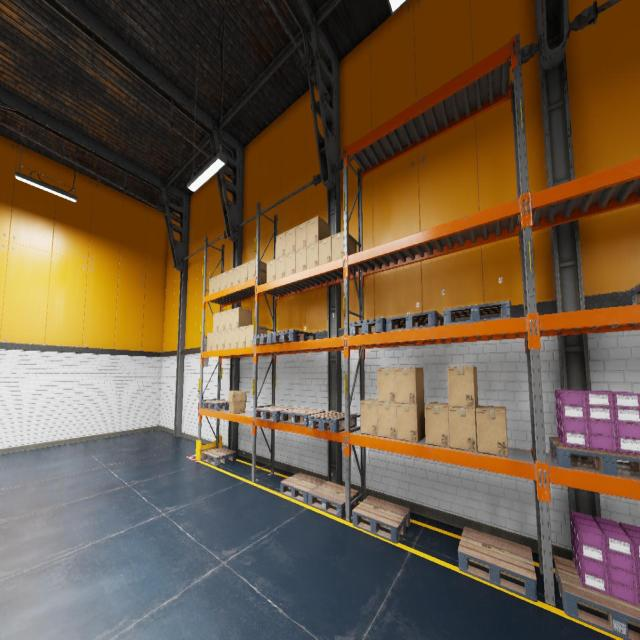box: (476, 405, 508, 457), (448, 406, 478, 451), (447, 366, 478, 408), (424, 402, 450, 448), (396, 402, 425, 442), (395, 368, 424, 404), (332, 231, 356, 267), (378, 402, 397, 439), (307, 216, 330, 245), (377, 368, 396, 402), (361, 399, 378, 435), (246, 324, 267, 346), (227, 391, 247, 414), (231, 307, 252, 328), (248, 258, 266, 282), (318, 236, 332, 265), (307, 241, 318, 269), (296, 221, 306, 250), (286, 227, 296, 254), (296, 246, 306, 272), (285, 251, 295, 276), (275, 255, 285, 279), (276, 232, 285, 258), (266, 259, 276, 282), (238, 326, 246, 347), (240, 262, 248, 283), (231, 328, 238, 348), (224, 329, 231, 349), (218, 330, 225, 350), (225, 310, 232, 330), (233, 266, 240, 286), (220, 272, 227, 290), (219, 311, 225, 331), (213, 312, 219, 332), (227, 268, 233, 288), (212, 331, 218, 350), (214, 274, 220, 292), (209, 276, 215, 294), (207, 332, 212, 351)
pallets: (553, 556, 640, 640), (458, 527, 537, 602), (549, 437, 640, 479), (352, 496, 410, 543), (308, 481, 358, 518), (443, 300, 511, 325), (280, 472, 326, 504), (386, 311, 443, 331), (308, 411, 356, 433), (280, 408, 326, 426), (253, 406, 296, 422), (349, 318, 386, 336), (202, 447, 236, 466), (272, 330, 316, 343), (253, 332, 280, 346), (202, 400, 229, 411), (630, 284, 640, 304)
